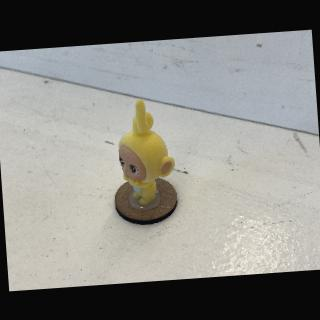teletubby: (119, 100, 174, 205)
